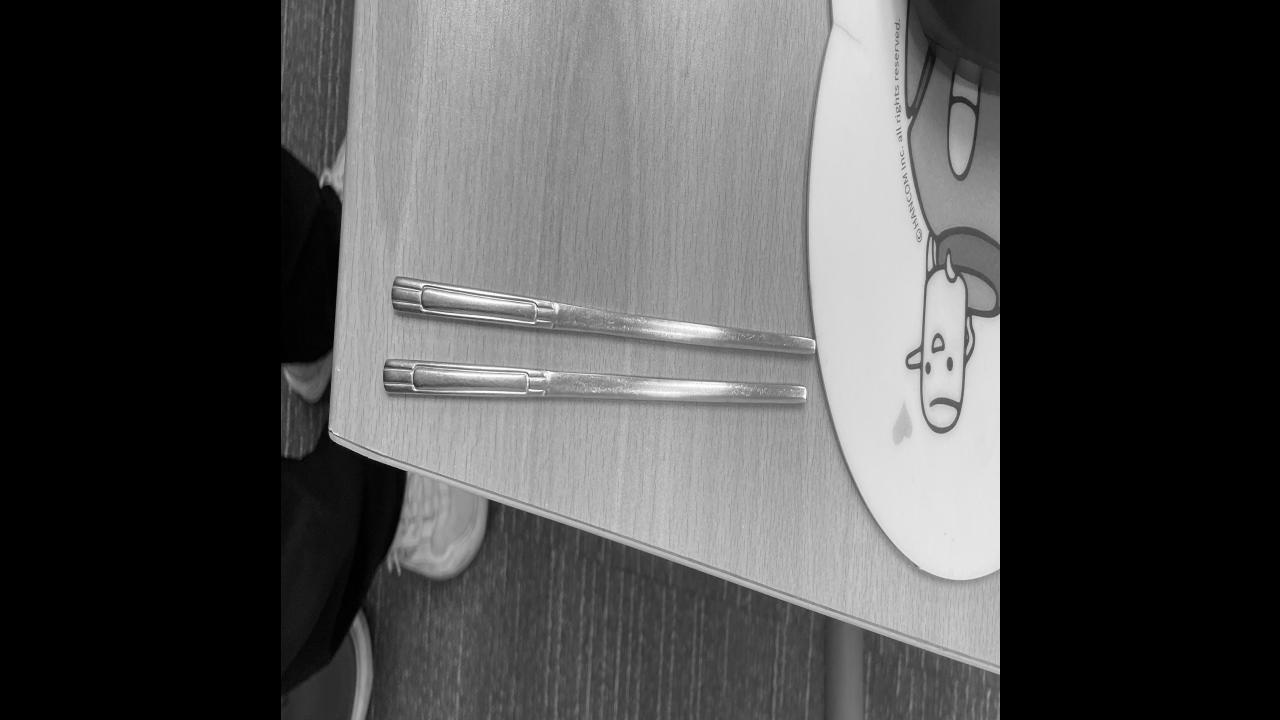chopstick: (382, 272, 814, 400)
